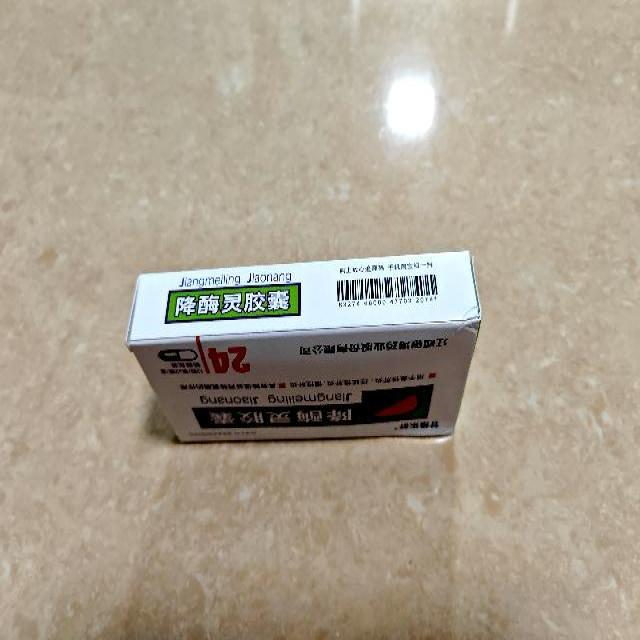box: (127, 249, 481, 444)
